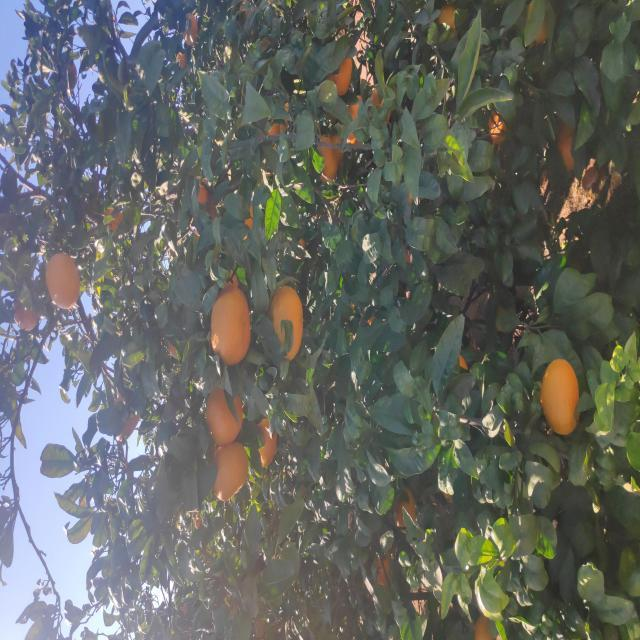Jeruk Sudah Matang: (278, 210, 352, 252), (276, 268, 359, 304), (205, 542, 282, 578), (138, 213, 196, 249), (200, 206, 256, 243), (334, 47, 388, 79), (172, 256, 224, 277), (545, 328, 588, 353), (493, 346, 547, 364), (462, 318, 508, 336), (309, 14, 330, 38), (596, 185, 628, 197), (432, 198, 454, 206)
